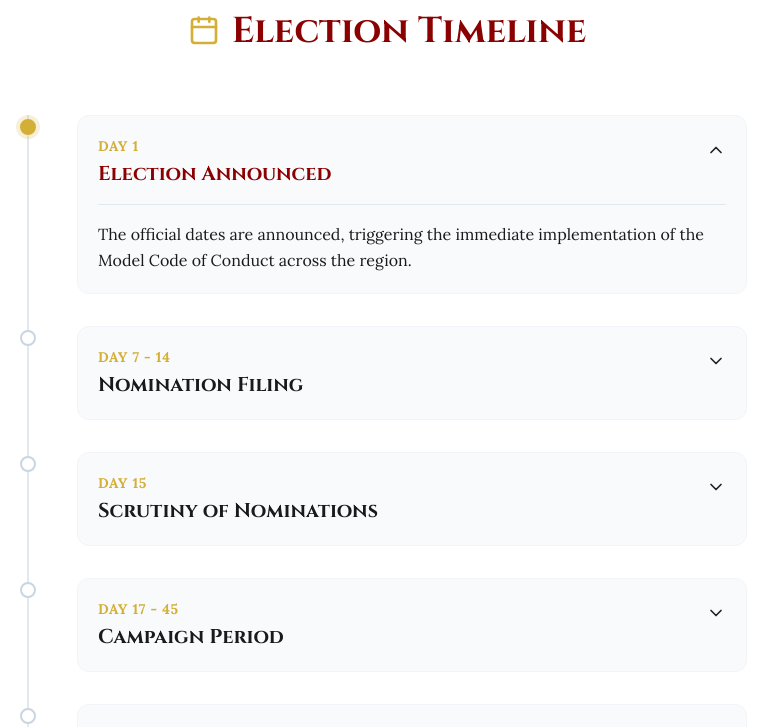
Scenario: Timeline › expands another event when clicked
The width and height of the screenshot is (764, 727).
Click the heading "Nomination Filing" at {"x": 201, "y": 385}, box [98, 371, 303, 399]
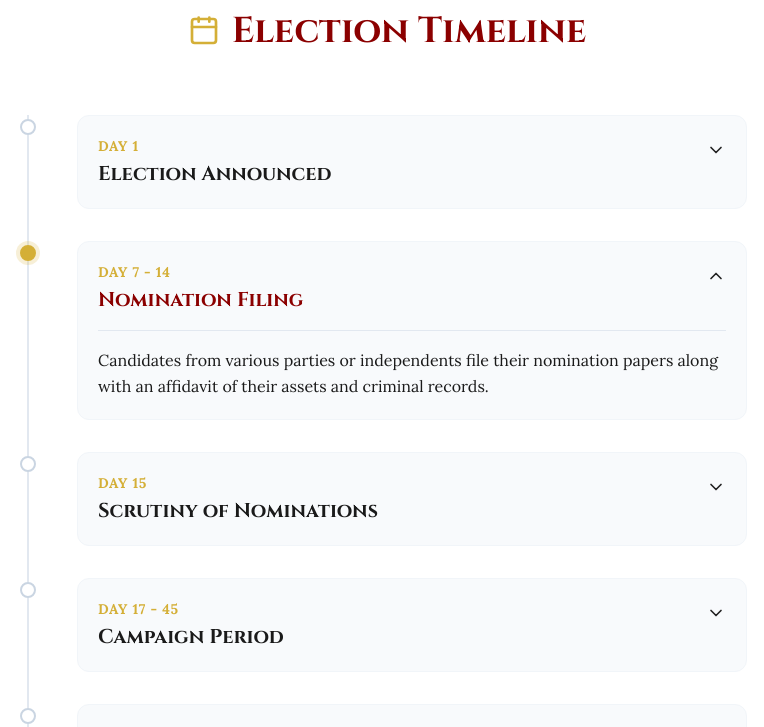
Check: the text "Candidates from various parties" is shown, box [98, 350, 718, 396]
